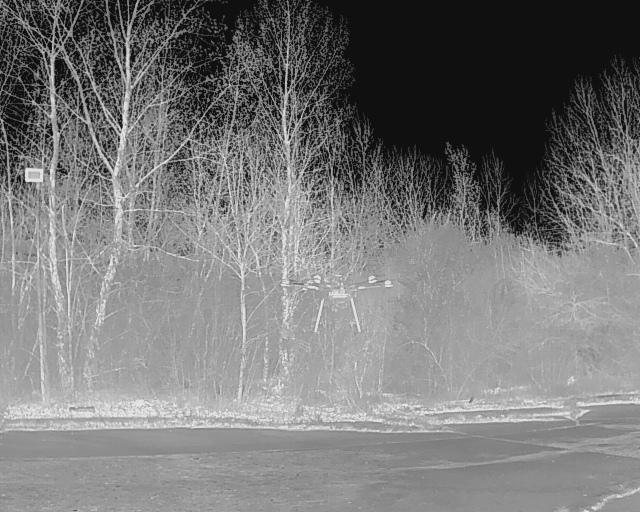drone: (280, 255, 396, 342)
